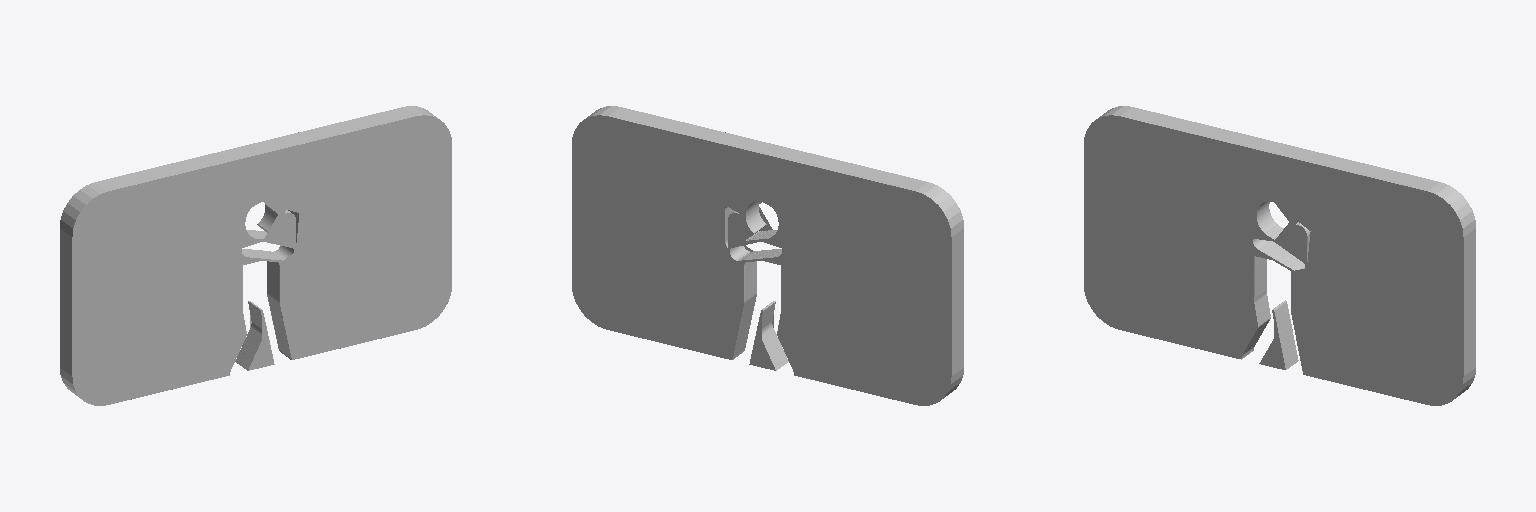
3 views of the same model, side by side, from view 1: azimuth 30°, elevation 25°; view 2: azimuth 150°, elevation 25°; view 3: azimuth 330°, elevation 25° (orthographic).
Parts seen in each view (by area): view 1: POSE23; view 2: POSE23; view 3: POSE23.
Boxes of the visible parts, x1=… form: POSE23: x1=60, y1=106, x2=451, y2=405; POSE23: x1=572, y1=106, x2=963, y2=405; POSE23: x1=1084, y1=106, x2=1475, y2=405.
Bounding box in the file's own units: 12 × 6.45 × 0.7.